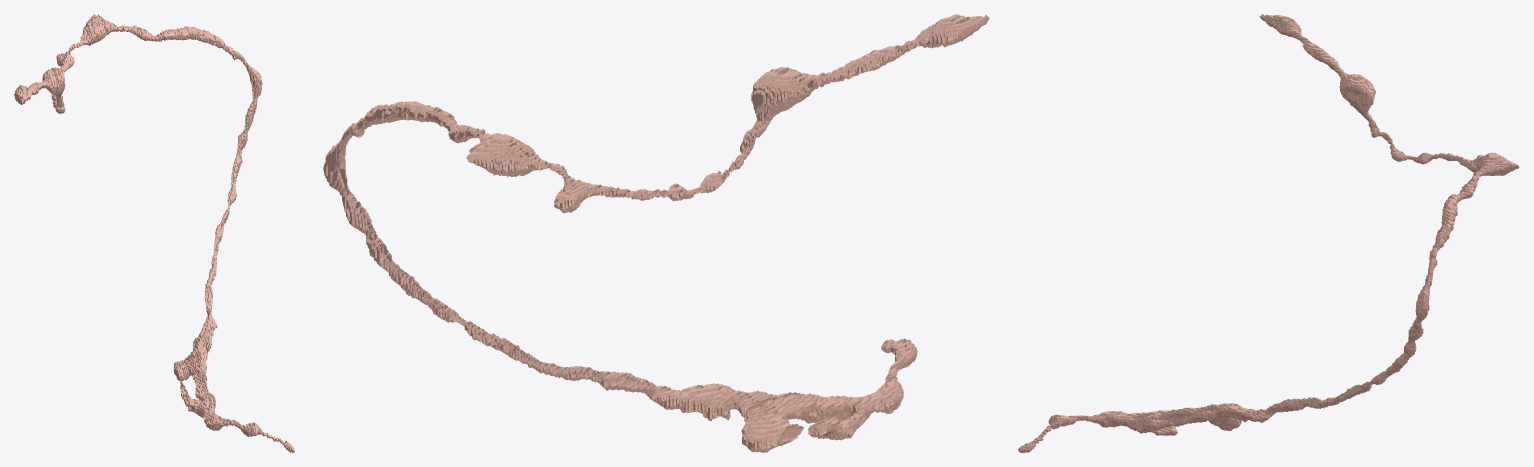
File: SVV_SMBDR.gltf
3 views of the same model, side by side, from view 1: azimuth 30°, elevation 25°; view 2: azimuth 150°, elevation 25°; view 3: azimuth 270°, elevation 25° (orthographic). The views are drawn at different scales.
Visible parts, largest first — view 1: SMBDR; view 2: SMBDR; view 3: SMBDR.
Part boxes in pixels (x1,y1,x2,y2): SMBDR: [14, 14, 294, 452]; SMBDR: [323, 14, 989, 452]; SMBDR: [1018, 14, 1519, 452].
Bounding box in the file's own units: 153303 × 147722 × 190420.
